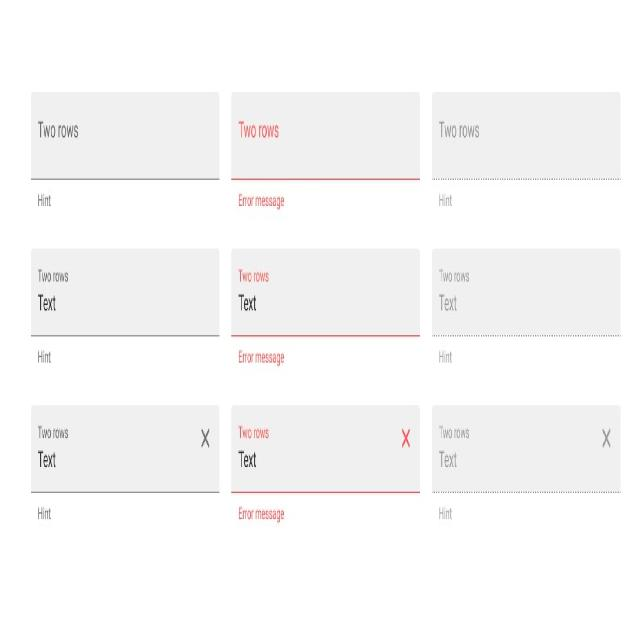VTextarea: (30, 245, 221, 368), (29, 402, 220, 525), (230, 88, 421, 211), (230, 402, 421, 525), (430, 401, 622, 523), (430, 245, 622, 366), (431, 89, 622, 210), (230, 246, 422, 366), (30, 89, 220, 210)
